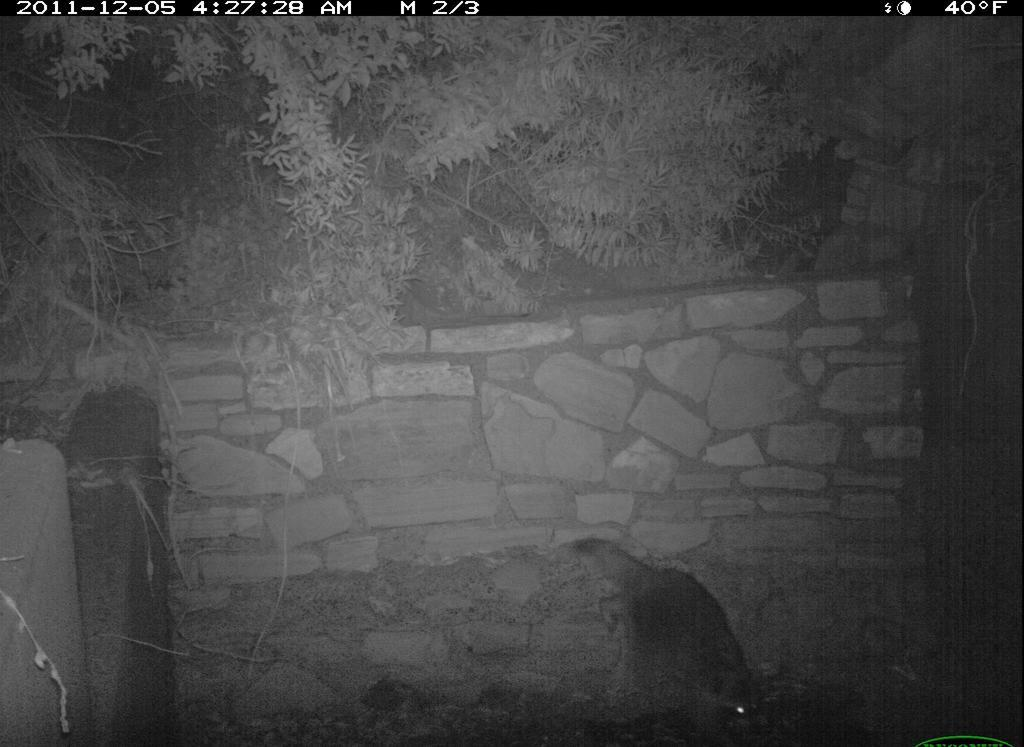raccoon: (557, 536, 788, 745)
